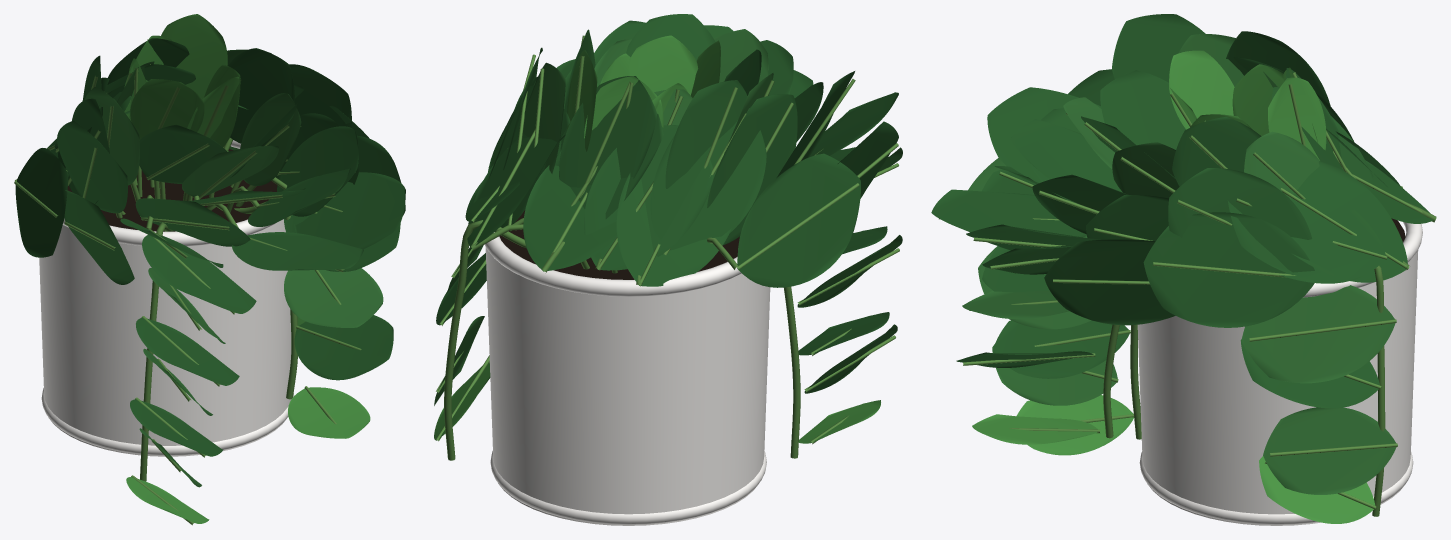
The model's file is plant_pot_realistic.glb.
The picture shows the model from 3 angles, left to right: view 1: azimuth 30°, elevation 25°; view 2: azimuth 150°, elevation 25°; view 3: azimuth 270°, elevation 25°; orthographic projection. The views are drawn at different scales.
Visible parts, largest first — view 1: Ceramic_Pot_Body, Trailing_Vine_Front, Trailing_Vine_Front_Left, Outer_Leaf_2, Outer_Leaf_6, Outer_Leaf_3, Mid_Leaf_6, Mid_Leaf_2, Inner_Leaf_4, Core_Leaf_3, Inner_Leaf_10, Mid_Leaf_5 (+23 smaller); view 2: Ceramic_Pot_Body, Outer_Leaf_6, Trailing_Vine_Front_Left, Trailing_Vine_Right, Mid_Leaf_8, Inner_Leaf_8, Outer_Leaf_8, Mid_Leaf_9, Outer_Leaf_7, Mid_Leaf_7, Inner_Leaf_6, Outer_Leaf_9 (+22 smaller); view 3: Trailing_Vine_Right, Ceramic_Pot_Body, Trailing_Vine_Front_Left, Outer_Leaf_10, Trailing_Vine_Front, Outer_Leaf_1, Outer_Leaf_9, Mid_Leaf_12, Inner_Leaf_4, Outer_Leaf_3, Mid_Leaf_4, Mid_Leaf_6 (+22 smaller).
Boxes of the visible parts, bbox=[...] form: Ceramic_Pot_Body: bbox=[39, 219, 291, 456]; Trailing_Vine_Front: bbox=[234, 201, 400, 438]; Trailing_Vine_Front_Left: bbox=[126, 223, 256, 525]; Outer_Leaf_2: bbox=[236, 172, 405, 249]; Outer_Leaf_6: bbox=[14, 148, 68, 257]; Outer_Leaf_3: bbox=[207, 204, 363, 272]; Mid_Leaf_6: bbox=[57, 121, 127, 218]; Mid_Leaf_2: bbox=[230, 126, 358, 216]; Inner_Leaf_4: bbox=[139, 124, 228, 198]; Core_Leaf_3: bbox=[130, 79, 204, 199]; Inner_Leaf_10: bbox=[228, 48, 294, 143]; Mid_Leaf_5: bbox=[135, 195, 250, 246]; Ceramic_Pot_Body: bbox=[485, 247, 770, 525]; Outer_Leaf_6: bbox=[707, 153, 860, 287]; Trailing_Vine_Front_Left: bbox=[784, 147, 902, 458]; Trailing_Vine_Right: bbox=[434, 133, 565, 460]; Mid_Leaf_8: bbox=[650, 108, 766, 255]; Inner_Leaf_8: bbox=[559, 76, 657, 197]; Outer_Leaf_8: bbox=[523, 158, 617, 272]; Mid_Leaf_9: bbox=[584, 125, 713, 273]; Outer_Leaf_7: bbox=[616, 173, 731, 286]; Mid_Leaf_7: bbox=[707, 94, 797, 245]; Inner_Leaf_6: bbox=[665, 80, 751, 188]; Outer_Leaf_9: bbox=[467, 109, 570, 250]; Trailing_Vine_Right: bbox=[1240, 210, 1397, 523]; Ceramic_Pot_Body: bbox=[1137, 250, 1418, 525]; Trailing_Vine_Front_Left: bbox=[968, 158, 1141, 455]; Outer_Leaf_10: bbox=[1143, 212, 1314, 327]; Trailing_Vine_Front: bbox=[956, 245, 1119, 444]; Outer_Leaf_1: bbox=[1044, 239, 1175, 325]; Outer_Leaf_9: bbox=[1281, 161, 1409, 282]; Mid_Leaf_12: bbox=[1168, 168, 1312, 239]; Inner_Leaf_4: bbox=[1100, 70, 1185, 149]; Outer_Leaf_3: bbox=[931, 189, 1086, 237]; Mid_Leaf_4: bbox=[1010, 119, 1122, 192]; Mid_Leaf_6: bbox=[1112, 14, 1205, 82].
Size of the model in its own units: 0.1886 by 0.2277 by 0.2415.
